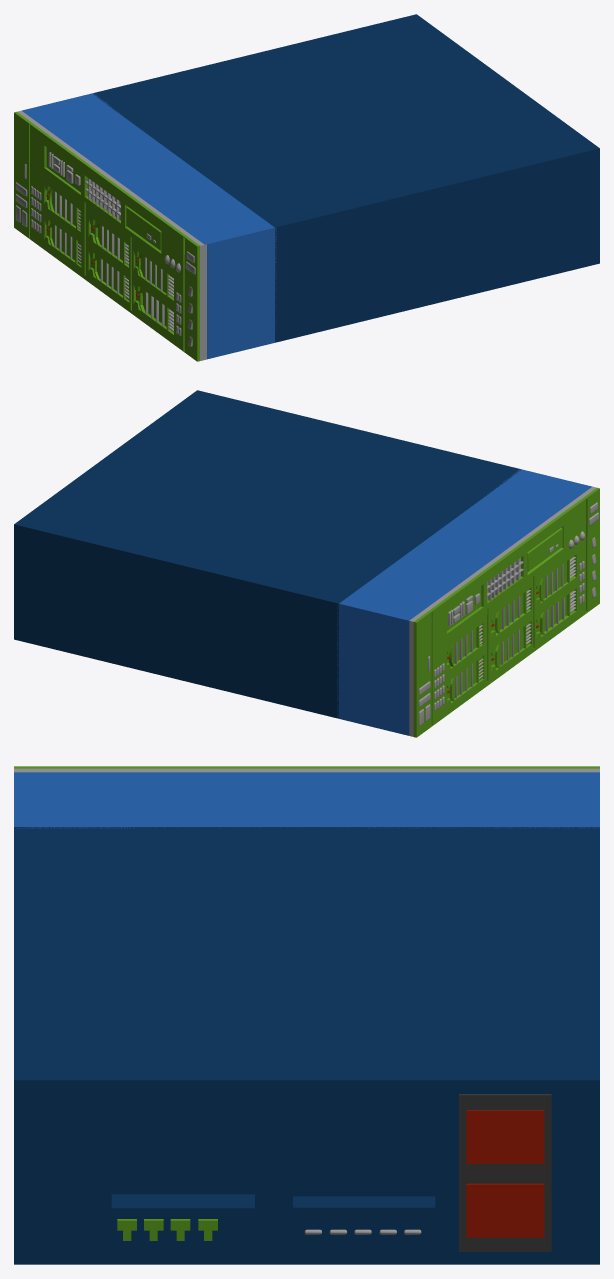
The model's file is router666.glb.
3 views of the same model, one above another, from view 1: azimuth 30°, elevation 25°; view 2: azimuth 150°, elevation 25°; view 3: azimuth 270°, elevation 25° (orthographic). The views are drawn at different scales.
Visible parts, largest first — view 1: node_id523, node_id527, node_id16, node_id519; view 2: node_id523, node_id527, node_id16, node_id519; view 3: node_id523, node_id527, node_id540, node_id532, node_id536, node_id519, node_id16.
Part boxes in pixels (bbox=[...]): node_id523: bbox=[93, 14, 599, 342]; node_id527: bbox=[22, 93, 276, 359]; node_id16: bbox=[14, 111, 199, 361]; node_id519: bbox=[17, 110, 206, 360]; node_id523: bbox=[14, 390, 521, 718]; node_id527: bbox=[337, 469, 591, 735]; node_id16: bbox=[413, 487, 599, 737]; node_id519: bbox=[409, 486, 596, 736]; node_id523: bbox=[14, 827, 599, 1264]; node_id527: bbox=[14, 772, 599, 828]; node_id540: bbox=[459, 1094, 551, 1251]; node_id532: bbox=[466, 1183, 544, 1237]; node_id536: bbox=[466, 1110, 544, 1163]; node_id519: bbox=[14, 768, 599, 772]; node_id16: bbox=[14, 766, 599, 768].
Bounding box in the file's own units: 0.16 × 0.0432 × 0.1246.
145 materials, 145 textured.
